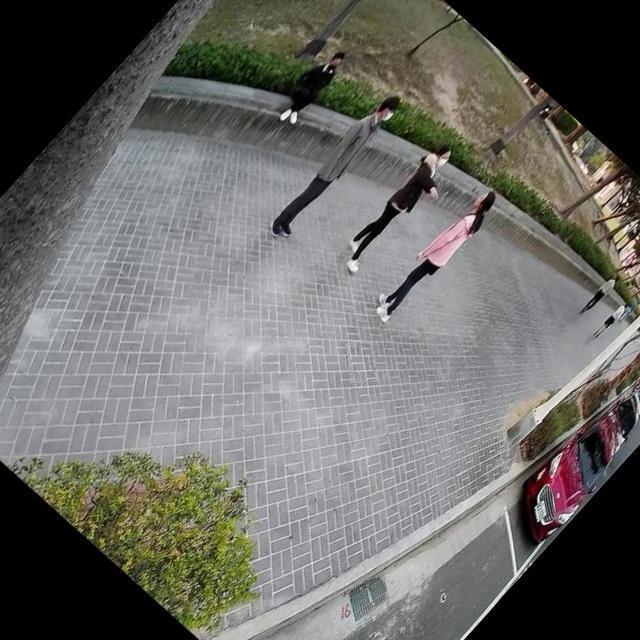person: (260, 82, 410, 245), (360, 170, 510, 332), (331, 129, 476, 284), (267, 38, 354, 130), (586, 291, 636, 344), (578, 268, 624, 318)
